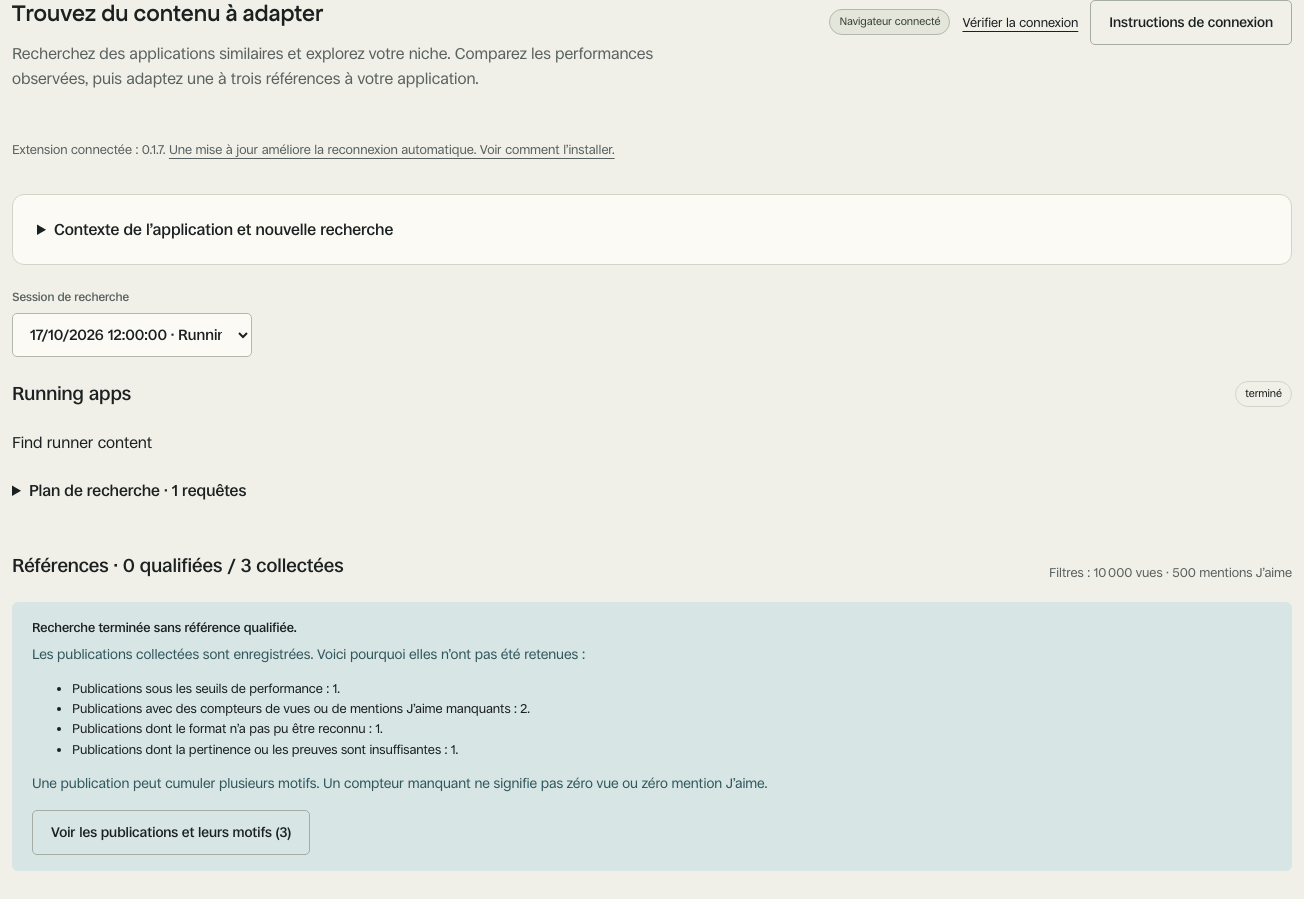
Test: explains saved exclusions in French and reveals the posts without rerunning research
The image size is (1304, 899).
Expected: the text "Recherche terminée sans référence qualifiée." is shown, [32,620,297,635]
Expected: the list item "Publications sous les seuils de performance : 1." is shown, [72,681,340,696]
Click the button "Voir les publications et leurs motifs (3)" at (171, 832), box [32,810,310,855]
(page scrolled)
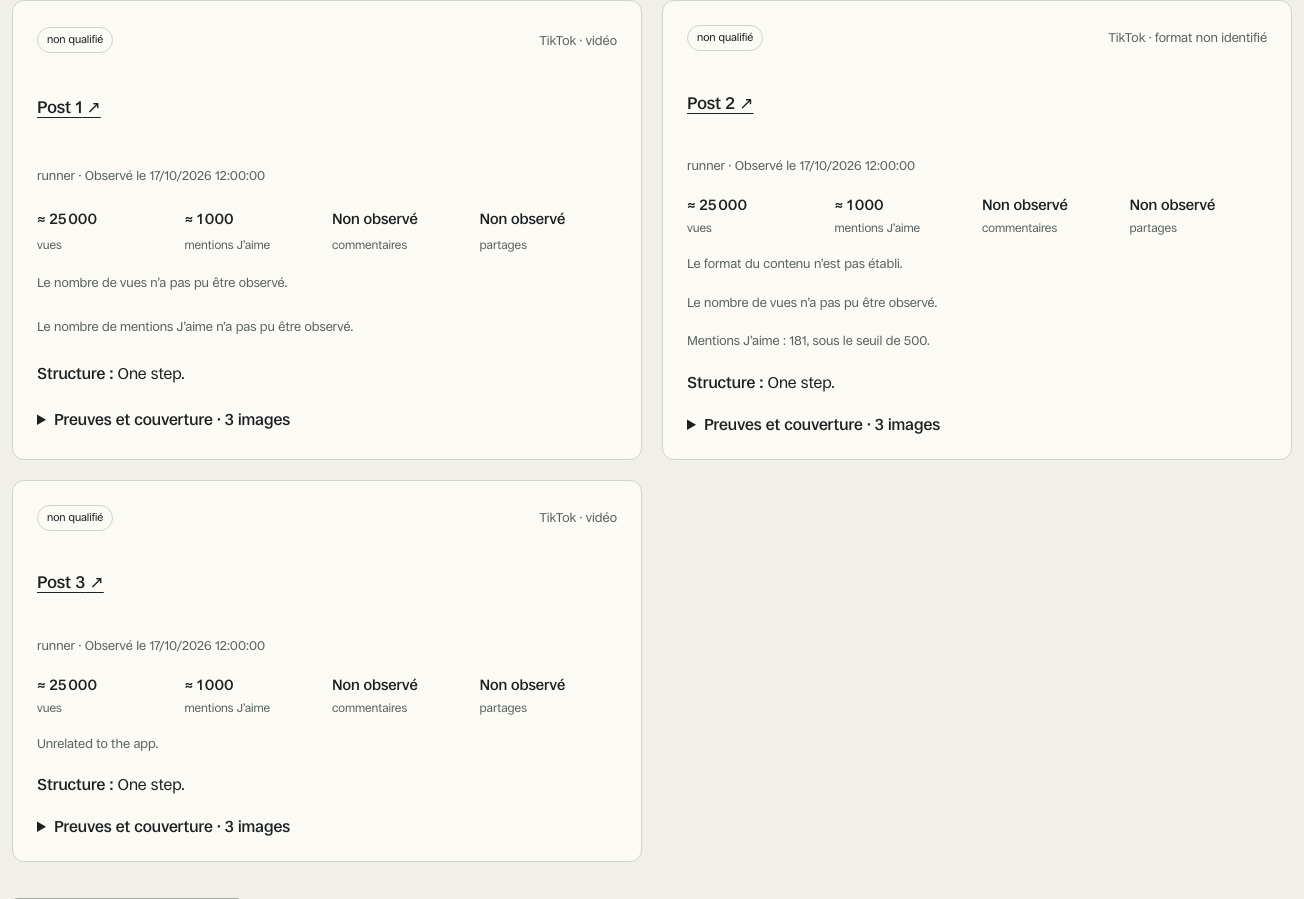
Expected: the link "Post 1 ↗" is shown, [37,98,101,118]
Expected: the link "Post 2 ↗" is shown, [687,93,754,113]
Expected: the link "Post 3 ↗" is shown, [37,572,104,592]
